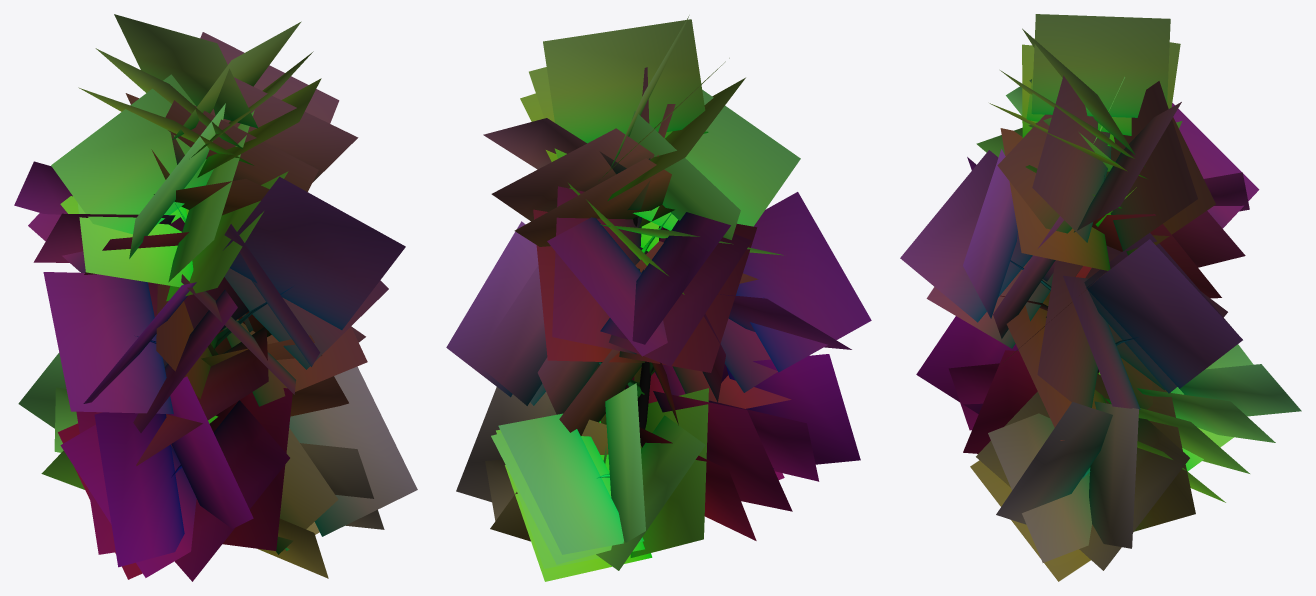
The model's file is URP_P15_Tree_3_LOD_3.fbx.
The picture shows the model from 3 angles, left to right: view 1: azimuth 30°, elevation 25°; view 2: azimuth 150°, elevation 25°; view 3: azimuth 270°, elevation 25°; orthographic projection. The views are drawn at different scales.
Visible parts, largest first — view 1: Tree_3_LOD_3; view 2: Tree_3_LOD_3; view 3: Tree_3_LOD_3.
Boxes of the visible parts, x1,y1,x2,y2 form: Tree_3_LOD_3: (14, 14, 417, 581); Tree_3_LOD_3: (446, 15, 871, 581); Tree_3_LOD_3: (900, 14, 1301, 581).
Size of the model in its own units: 490 by 764 by 541.
